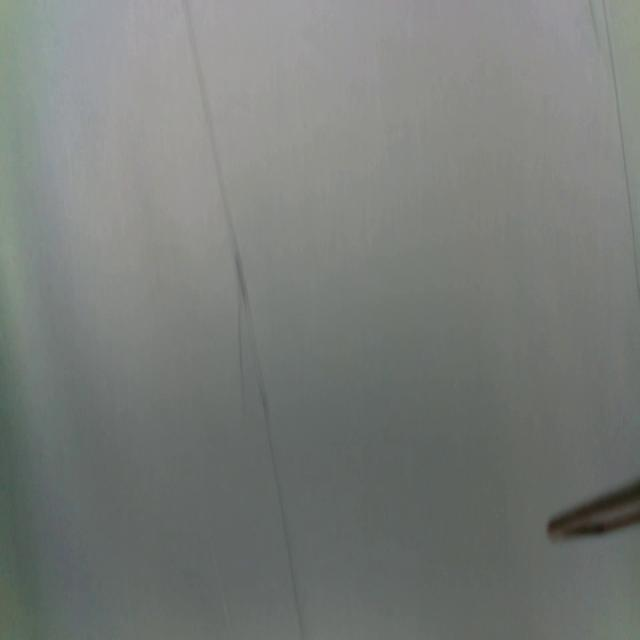crease: (182, 0, 304, 631), (603, 0, 638, 304)
